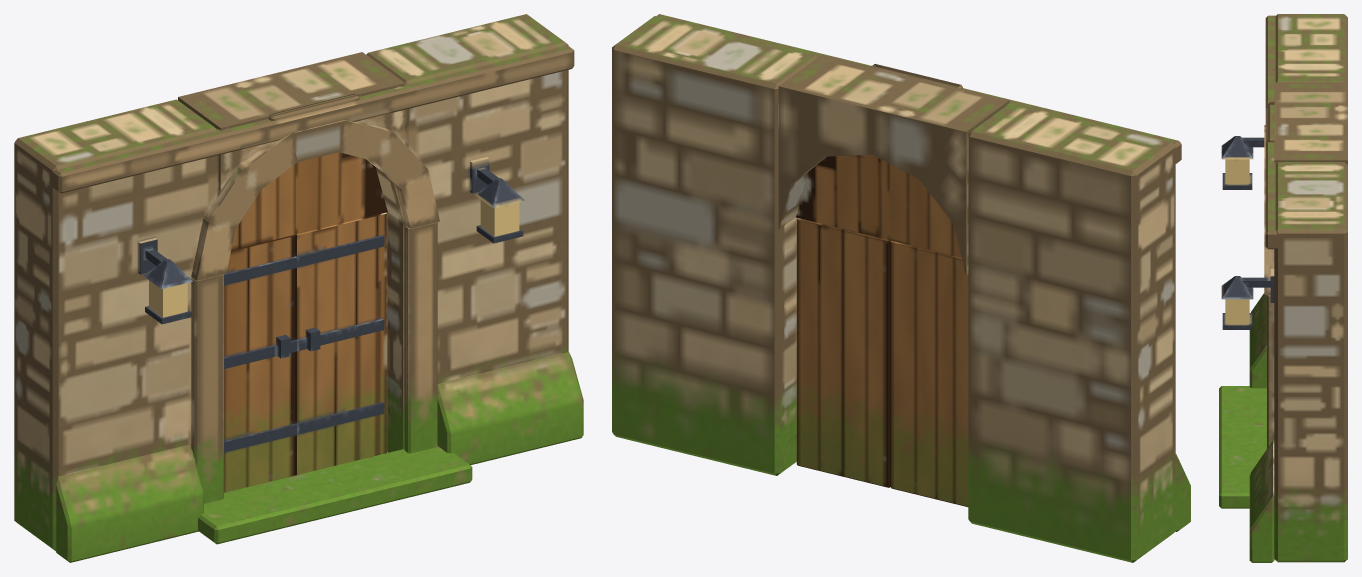
File: Kit_Keep_WallDoor.fbx
The picture shows the model from 3 angles, left to right: view 1: azimuth 30°, elevation 25°; view 2: azimuth 150°, elevation 25°; view 3: azimuth 270°, elevation 25°; orthographic projection. The views are drawn at different scales.
Parts seen in each view (by area): view 1: Kit_Keep_WallDoor_LOD0; view 2: Kit_Keep_WallDoor_LOD0; view 3: Kit_Keep_WallDoor_LOD0.
Part boxes in pixels (x1,y1,x2,y2): Kit_Keep_WallDoor_LOD0: (14, 14, 583, 562); Kit_Keep_WallDoor_LOD0: (612, 14, 1190, 562); Kit_Keep_WallDoor_LOD0: (1219, 14, 1347, 562).
Size of what is drawn, in the model's own units: 4.2 by 3.01 by 1.05.
1 material, 1 textured.
